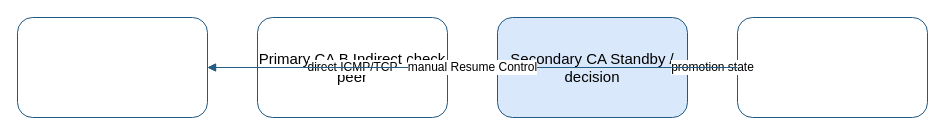
The diagram is 945 pixels wide and 135 high, and some of its shapes have lost their labels. The shapes that lost their labels are listed below. From the top down, each one's centre as x and y in pixels, then its label:
At point (112, 67): "Primary CA A Direct check".
At point (832, 67): "FortiNAC-M Promoted status / control".
